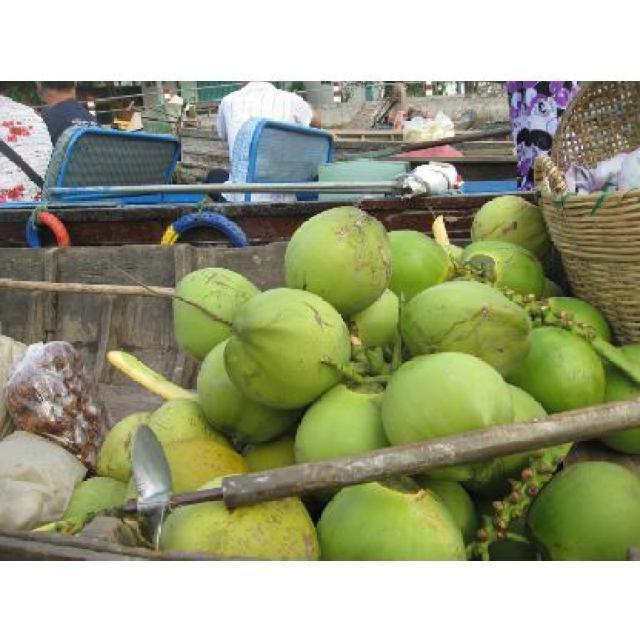Coconut: (60, 193, 638, 558)
